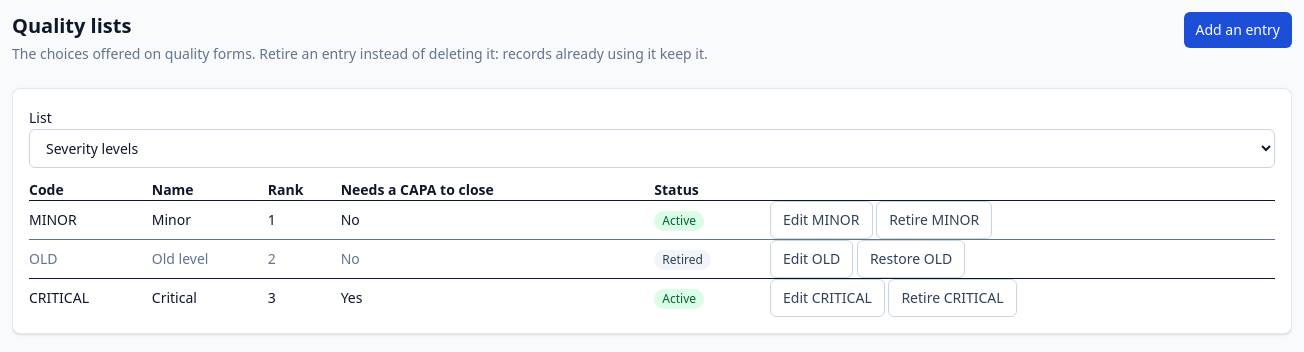
Test: QualitySettingsPage › lists the entries by rank with retired ones marked, and switches lists
The image size is (1304, 352).
Expected: the text "Old level" is shown, [152, 240, 268, 278]
Expected: the text "Retired" is shown, [654, 250, 711, 270]
Step 1. Select "Non-conformance categories" in the dropdown labelled "List" → [652, 148], box [29, 129, 1275, 168]
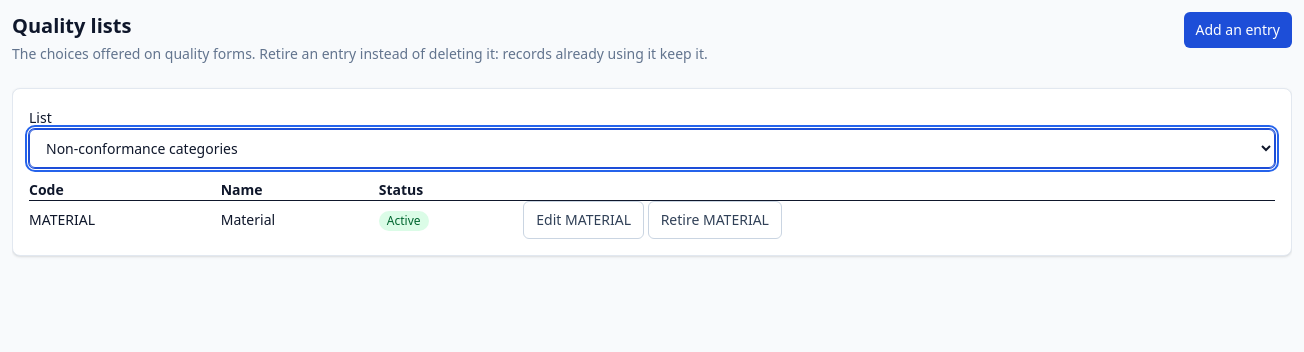
Result: the text "Material" is shown at [221, 200, 379, 239]
Result: the column heading "Needs a CAPA to close" is gone
